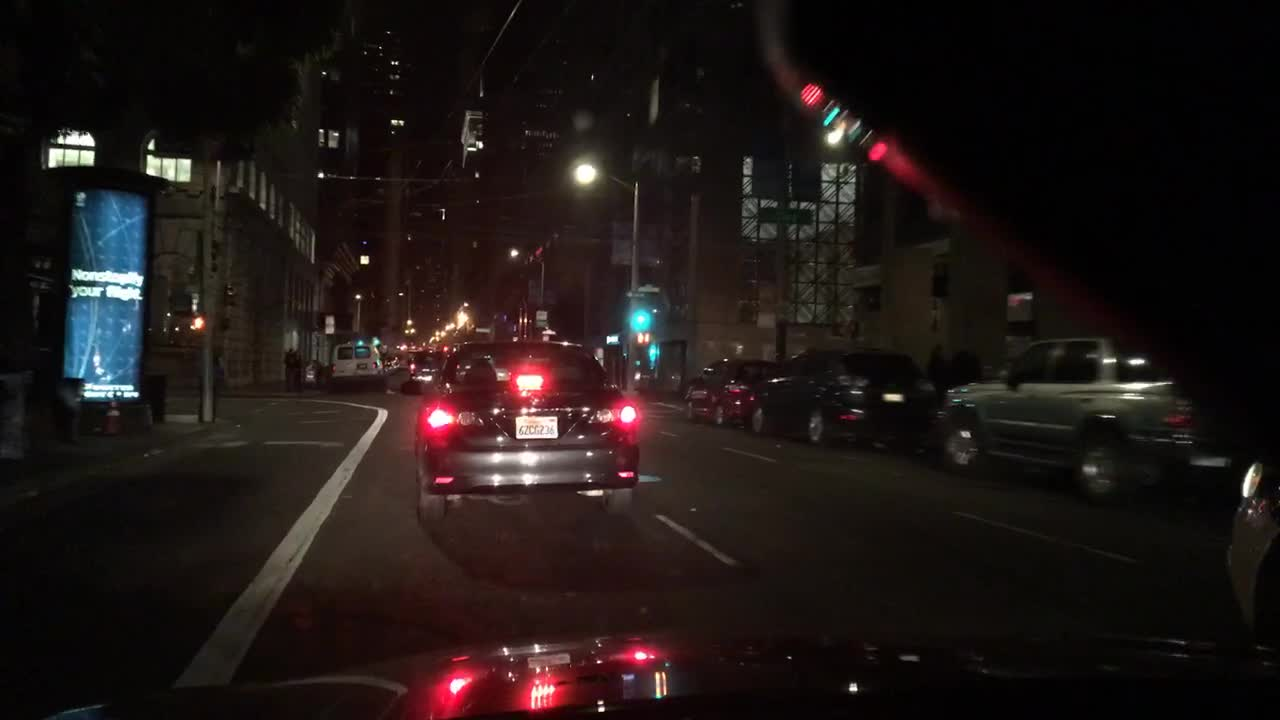car: (935, 328, 1277, 500), (411, 340, 645, 527), (748, 340, 953, 453), (1212, 459, 1277, 596), (681, 354, 788, 430), (325, 339, 388, 383), (405, 343, 454, 393)
traffic light: (629, 302, 654, 331), (634, 331, 652, 346)
traffic sign: (532, 307, 549, 327), (320, 312, 335, 333), (474, 325, 493, 334)
